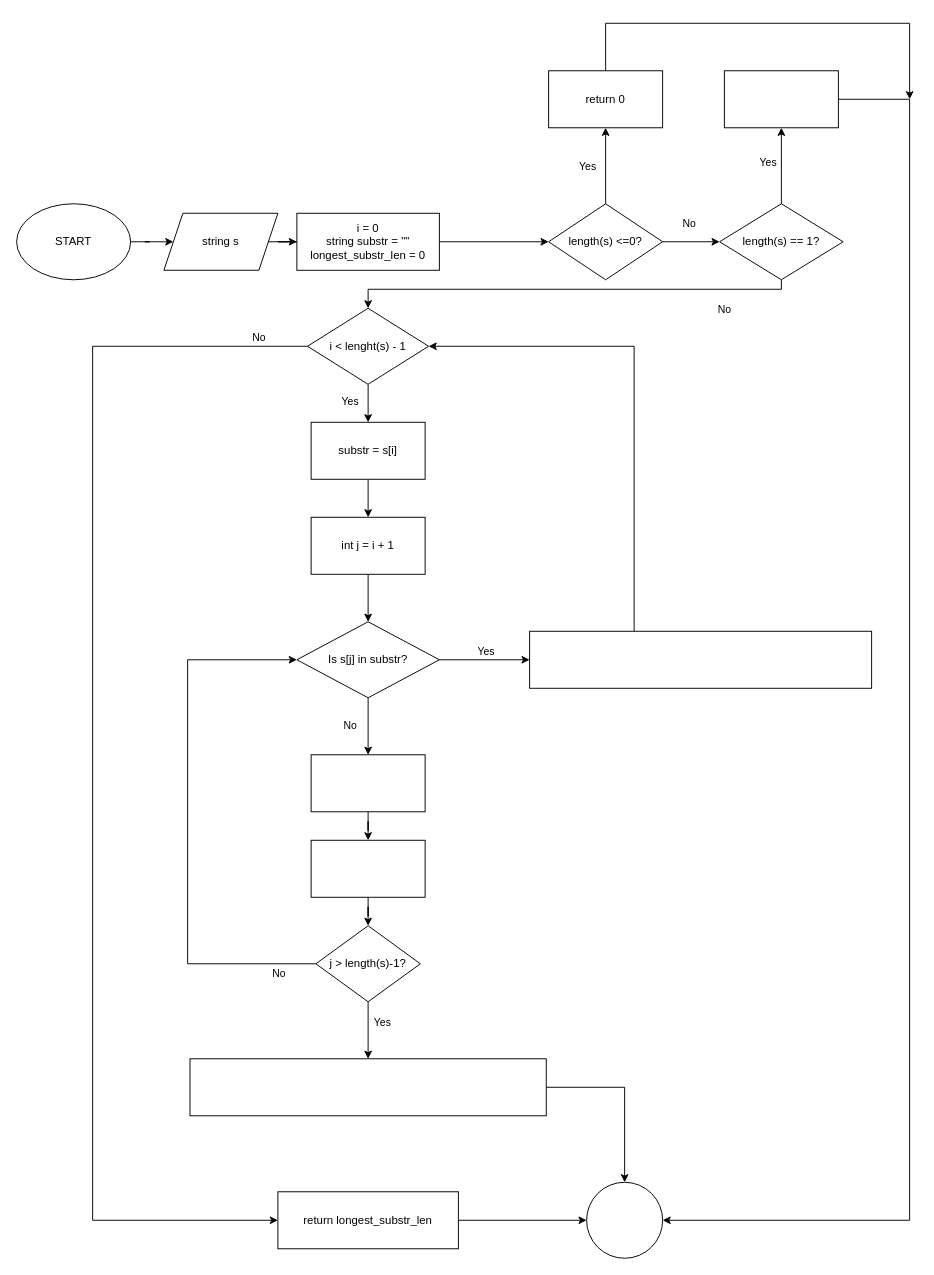
Image size: 934x1275. Some labels were removed from this diagram. The shapes that lost their labels are listed below. From the top down, each one's centre as x and y in pixels, then its label:
At pixel 780 99: "return 1".
At pixel 700 659: "i += 1 longest_substr_len = Max( longest_substr_len, length(substr))".
At pixel 367 783: "append s[j] to substr".
At pixel 367 868: "j++".
At pixel 367 1087: "return Max( longest_substr_len, length(substr))".
At pixel 624 1219: "END".
